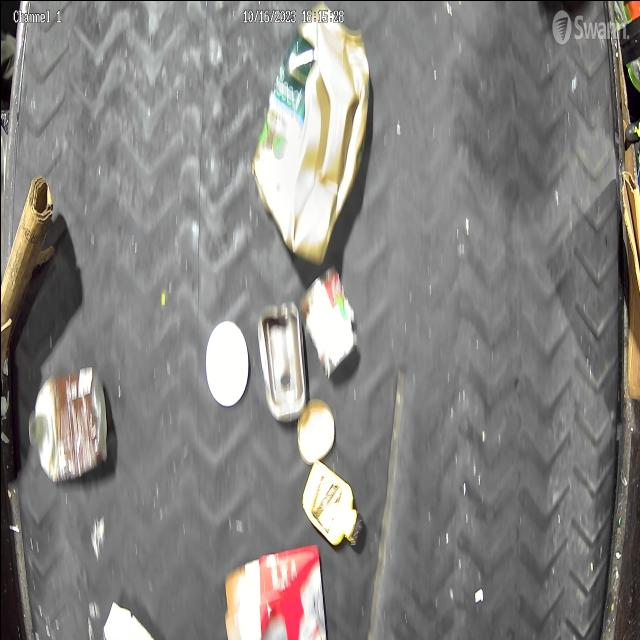can: (298, 266, 356, 374)
non_white_jug: (250, 2, 370, 265)
